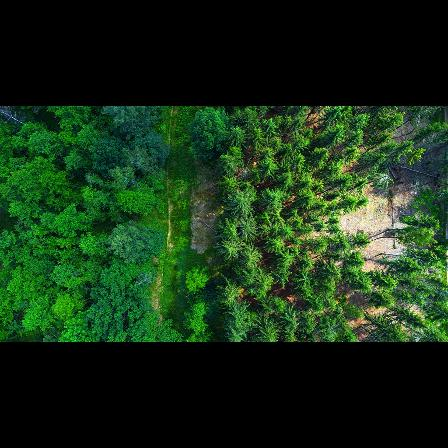Dead: (0, 106, 27, 130)
